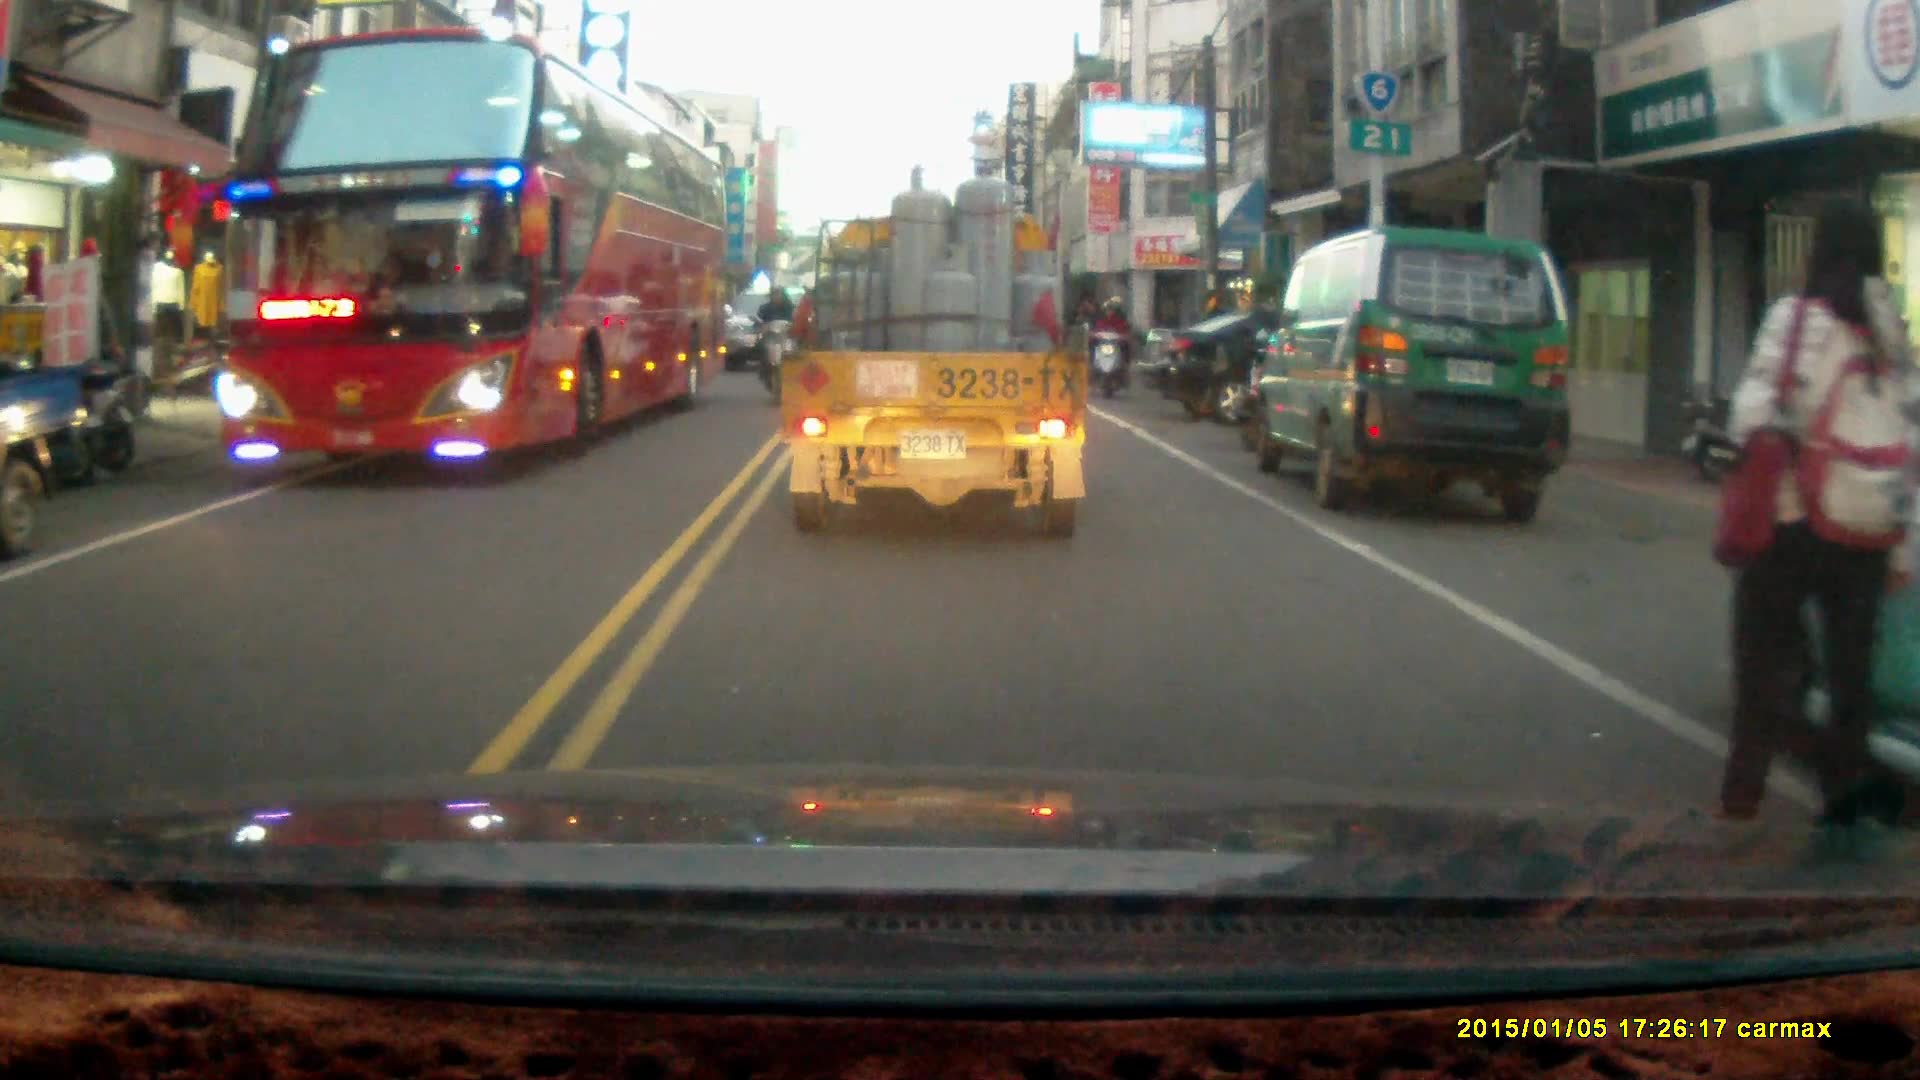pedestrian: (1715, 191, 1912, 864)
rider: (746, 282, 811, 412), (1085, 291, 1133, 397)
vehicle: (215, 19, 731, 468), (784, 155, 1091, 538), (1253, 222, 1576, 518), (1135, 304, 1454, 419), (1, 366, 95, 560), (709, 291, 834, 377)
